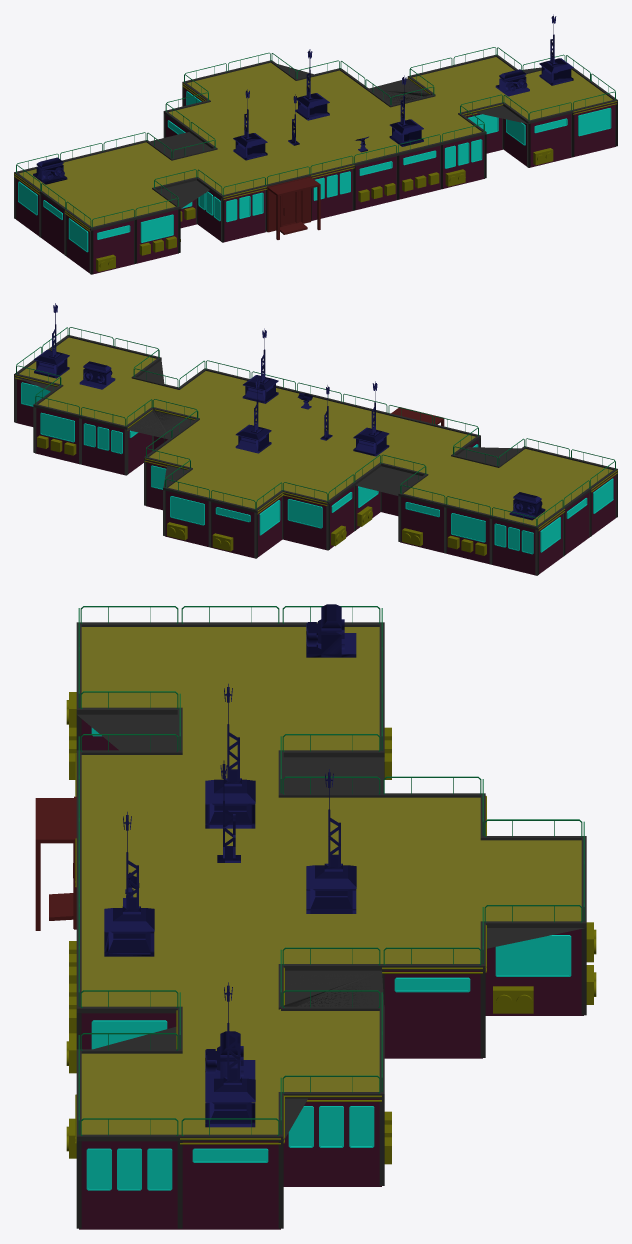
File: BuN_000.fbx
The picture shows the model from 3 angles, top to bottom: view 1: azimuth 30°, elevation 25°; view 2: azimuth 150°, elevation 25°; view 3: azimuth 270°, elevation 25°; orthographic projection. The views are drawn at different scales.
Parts seen in each view (by area): view 1: Building_Generator1; view 2: Building_Generator1; view 3: Building_Generator1.
Boxes of the visible parts, x1,y1,x2,y2 form: Building_Generator1: [14, 14, 617, 274]; Building_Generator1: [14, 303, 617, 575]; Building_Generator1: [35, 604, 596, 1229].
Size of the model in its own units: 12.08 by 2.44 by 5.55.
